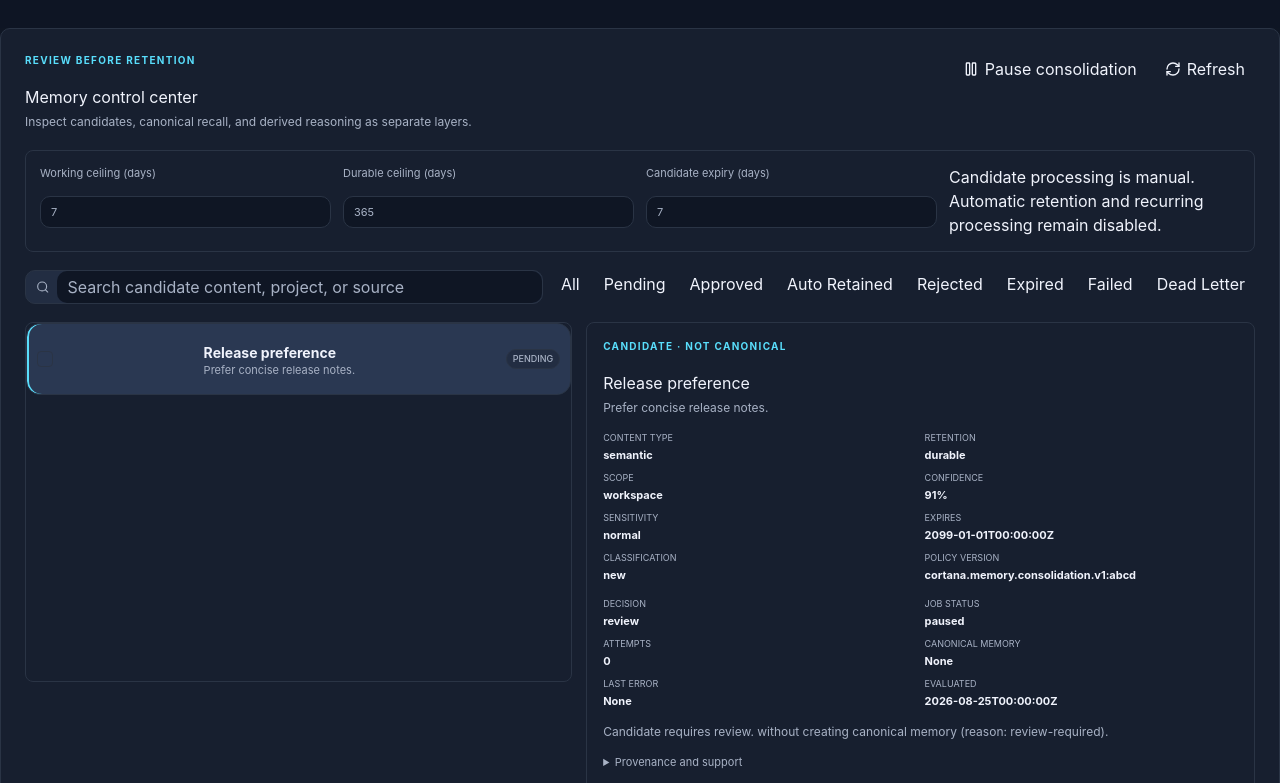
reports review-only supersession without claiming a canonical write
This screenshot has width=1280, height=783.
Click the button "Release preference Prefer concise release notes.". click: (279, 359)
box: [61, 343, 498, 375]
(page scrolled)
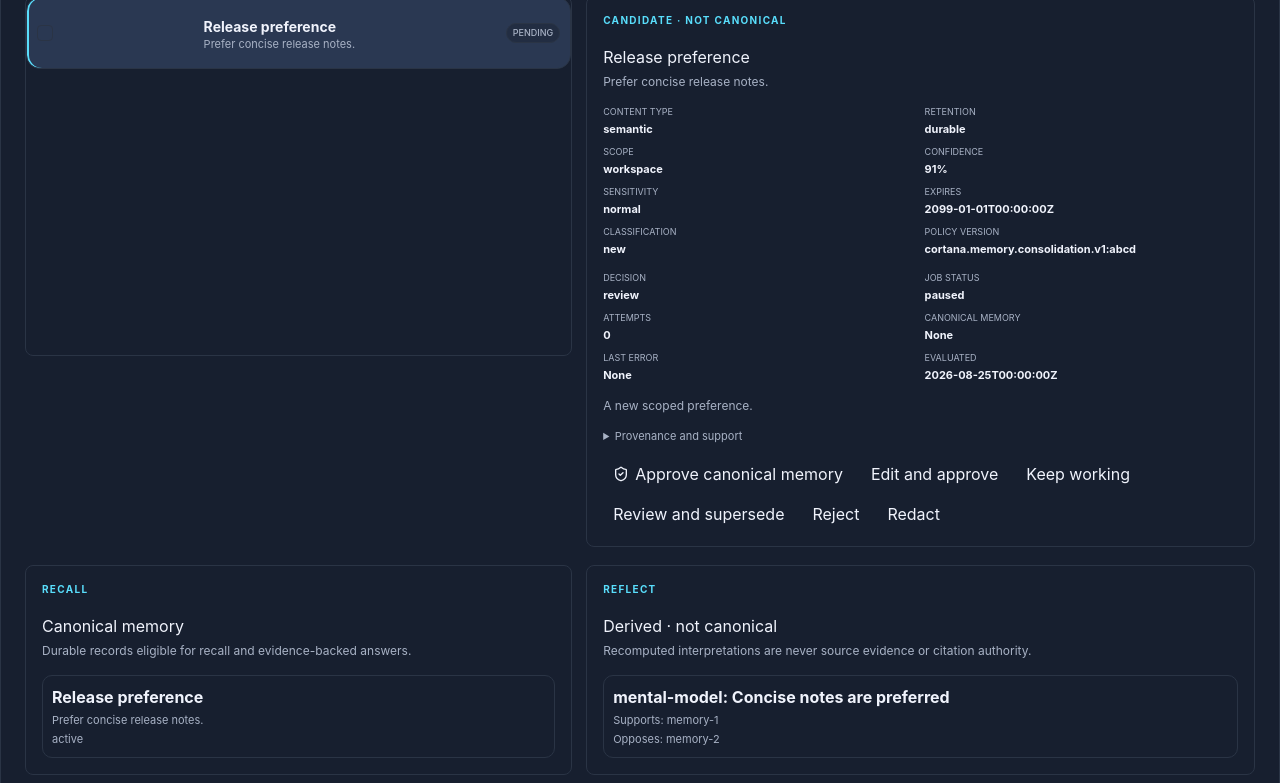
Click the button "Review and supersede". click: (699, 514)
box: [603, 498, 794, 530]
(page scrolled)
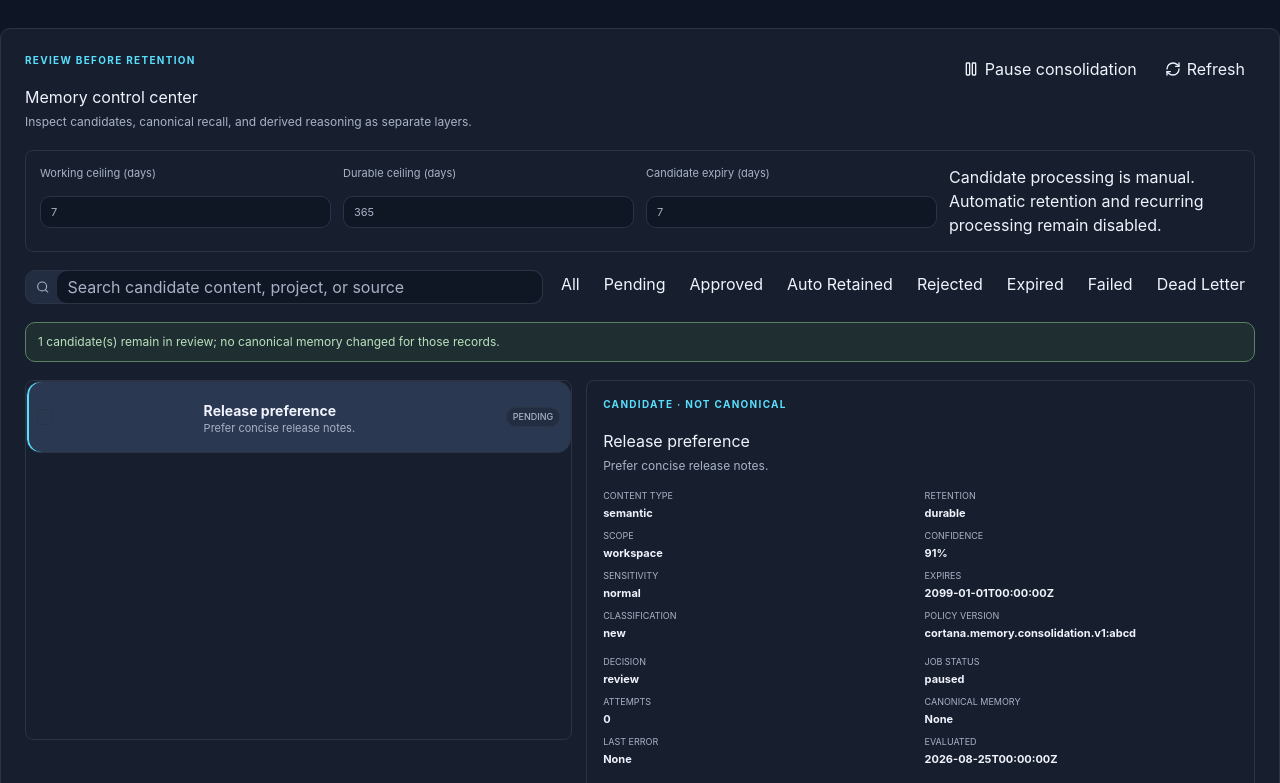
Result: the text "remain in review; no canonical memory changed" is shown at [38, 334, 500, 349]
